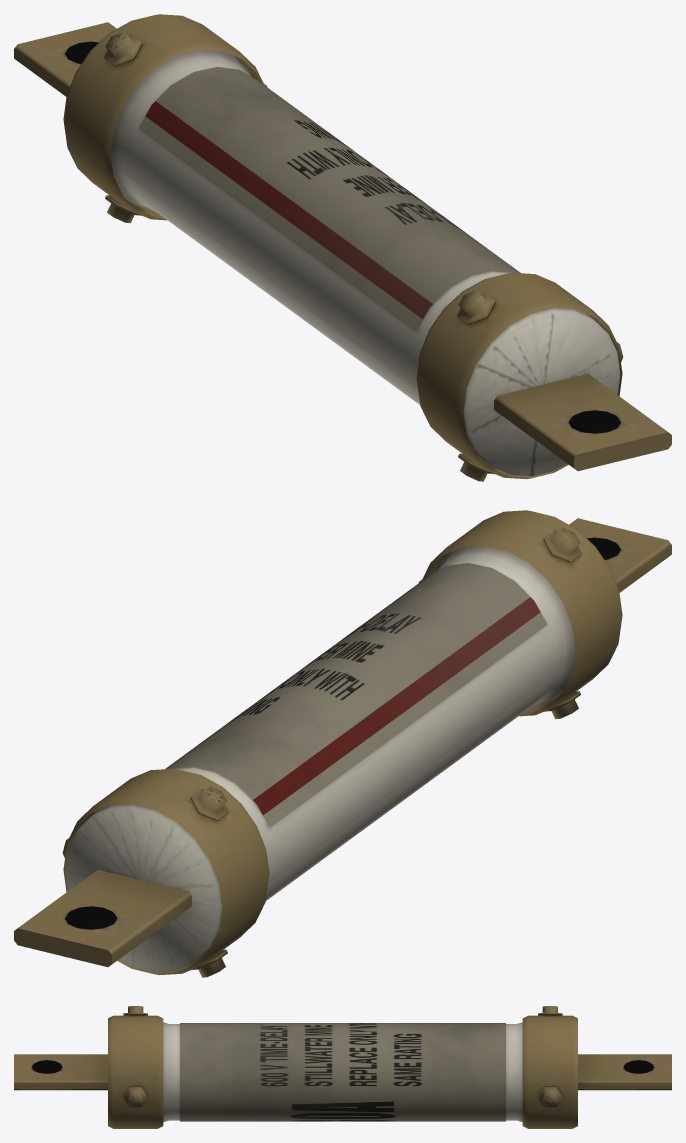
Rendered from fuse.glb.
3 renders of one model, top to bottom at view 1: azimuth 30°, elevation 25°; view 2: azimuth 150°, elevation 25°; view 3: azimuth 270°, elevation 25°, orthographic. The views are drawn at different scales.
Parts seen in each view (by area): view 1: fuse; view 2: fuse; view 3: fuse.
Boxes of the visible parts, x1,y1,x2,y2 form: fuse: (14, 14, 671, 481); fuse: (14, 510, 671, 977); fuse: (14, 1006, 671, 1128).
Size of the model in its own units: 0.0444 by 0.0438 by 0.238.
1 material, 1 textured.
